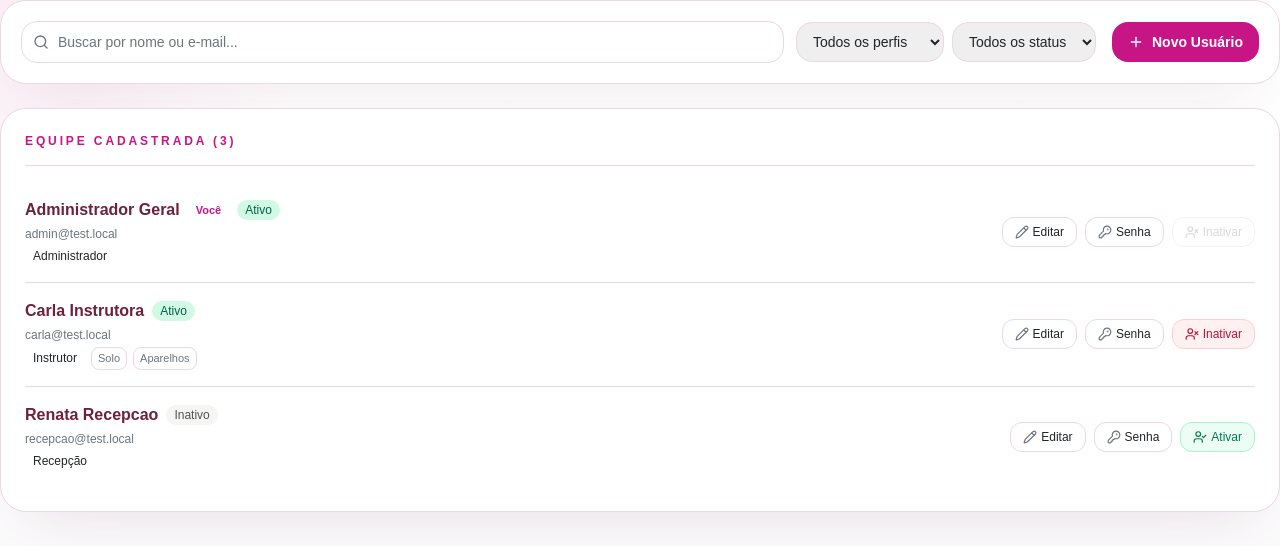
UsersManagementPanel › filtra usuarios por termo de busca
Step 1. Type "carla" into the field with placeholder "Buscar por nome ou e-mail..." → (402, 42), box left=21, top=21, right=784, bottom=63
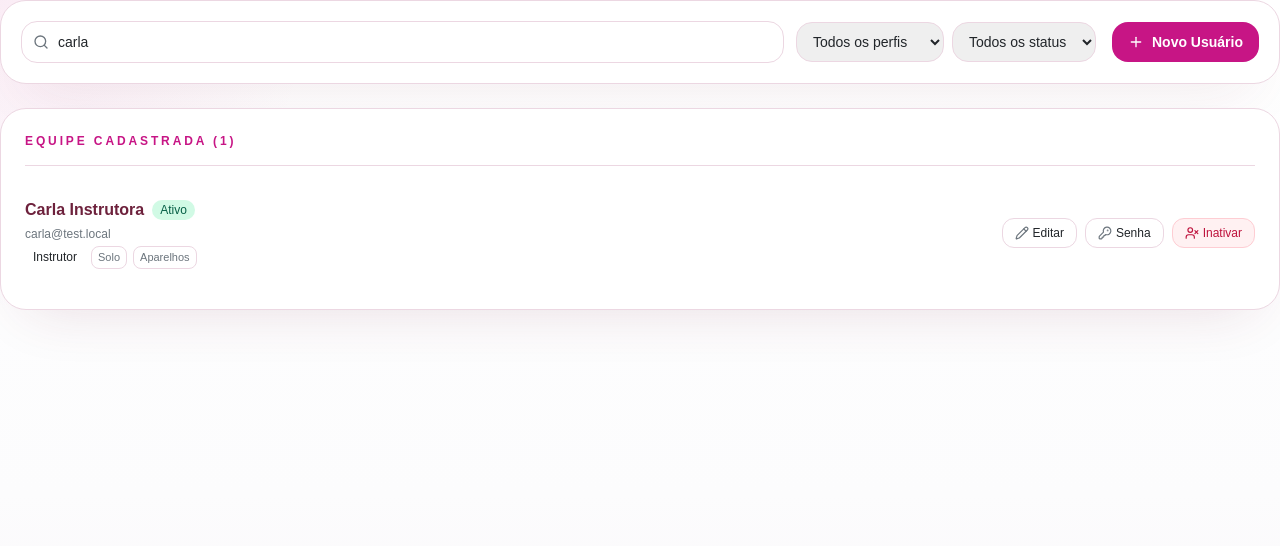
Expected: the text "Carla Instrutora" is shown, left=25, top=198, right=144, bottom=222
Expected: the text "Equipe Cadastrada (1)" is shown, left=25, top=133, right=236, bottom=149
Expected: the text "Administrador Geral" is gone
